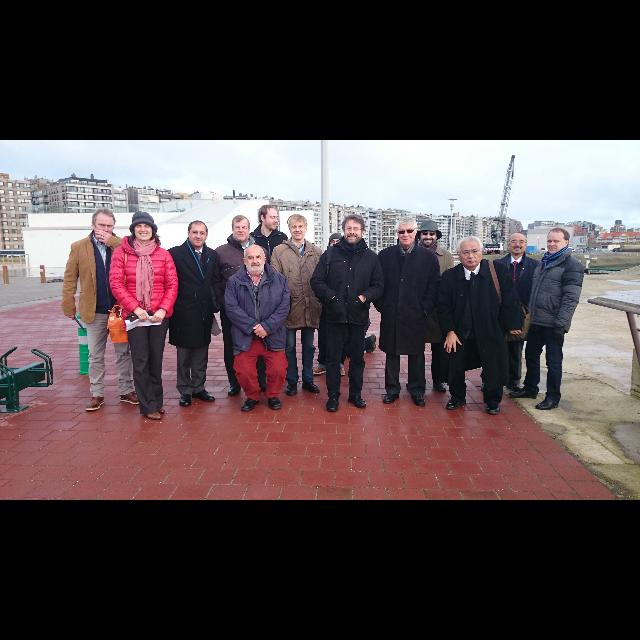head: (456, 238, 484, 268), (91, 208, 115, 240), (242, 244, 266, 272), (396, 216, 418, 246), (546, 228, 570, 255), (343, 216, 365, 244), (187, 221, 209, 247), (132, 215, 154, 241), (288, 215, 308, 241), (232, 214, 250, 242), (507, 232, 528, 254), (420, 223, 438, 247), (260, 206, 278, 230), (330, 232, 344, 252)
person: (434, 235, 534, 418), (59, 206, 145, 412), (307, 212, 387, 414), (107, 210, 179, 422), (506, 225, 584, 411), (369, 215, 443, 408), (222, 242, 292, 413), (163, 220, 225, 408), (268, 213, 328, 397), (213, 214, 273, 398), (479, 230, 543, 396), (404, 218, 458, 394), (242, 204, 292, 380), (310, 232, 350, 376)
